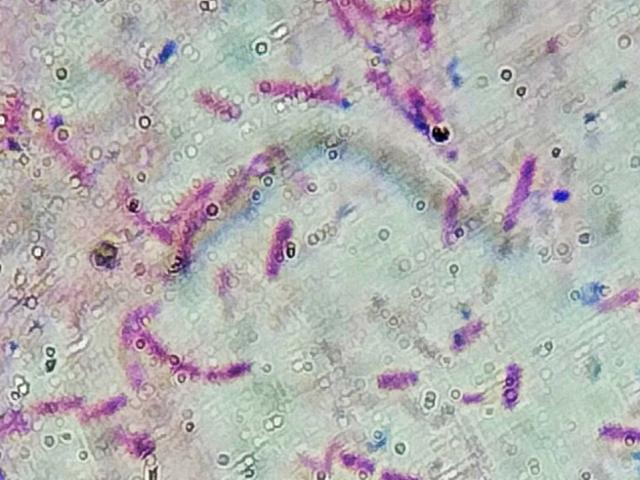E. coli: (502, 157, 550, 233), (139, 322, 193, 376), (263, 79, 345, 112), (262, 212, 303, 277), (95, 422, 153, 461), (113, 307, 145, 377), (225, 152, 272, 199), (42, 135, 88, 182), (196, 352, 254, 386), (495, 359, 534, 408), (191, 86, 243, 122), (26, 389, 81, 422), (438, 185, 468, 243), (368, 66, 405, 113), (448, 313, 495, 349), (179, 209, 209, 261), (122, 200, 161, 240), (589, 416, 640, 446), (371, 366, 423, 393), (0, 399, 28, 447), (413, 80, 449, 117), (85, 390, 129, 419), (329, 2, 361, 37), (336, 445, 373, 473), (419, 2, 440, 50), (379, 457, 416, 480), (459, 380, 489, 408), (176, 182, 214, 202), (389, 5, 418, 26)
